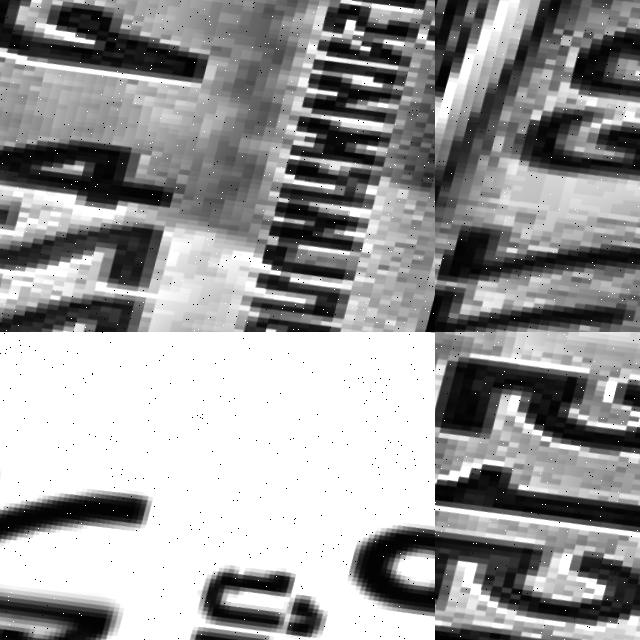license-plate: (0, 0, 435, 332), (0, 332, 435, 640), (435, 0, 640, 332), (435, 332, 640, 640)
